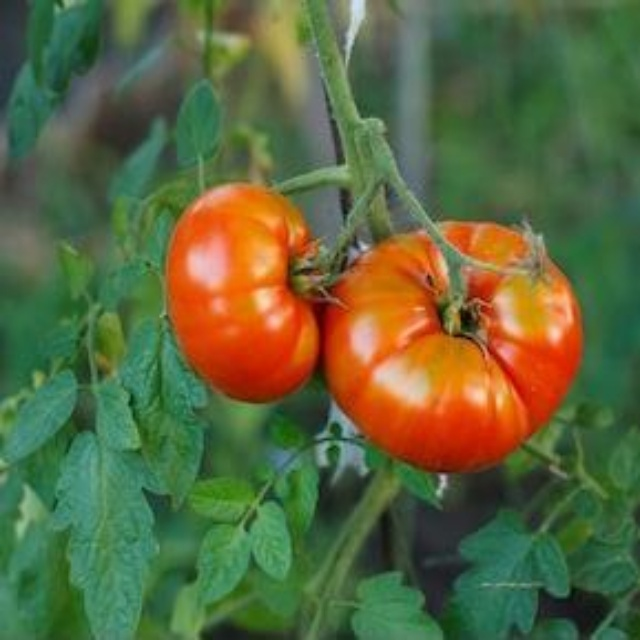tomato: (314, 222, 585, 474), (162, 183, 335, 403)
